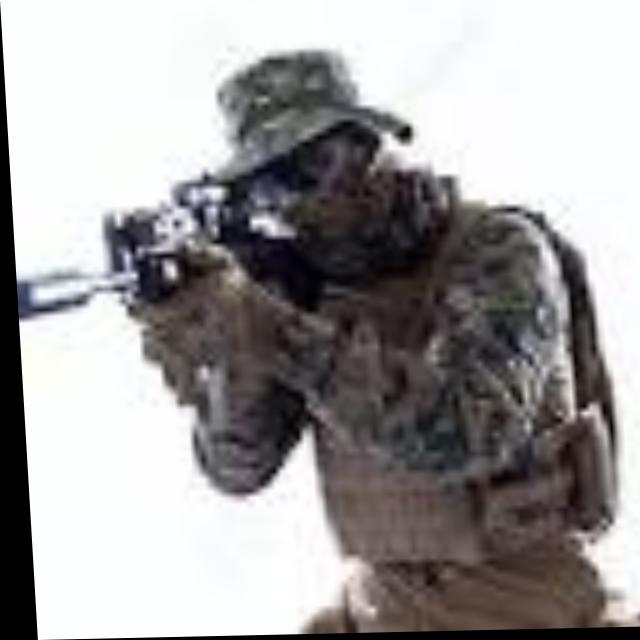other: (138, 60, 605, 637)
